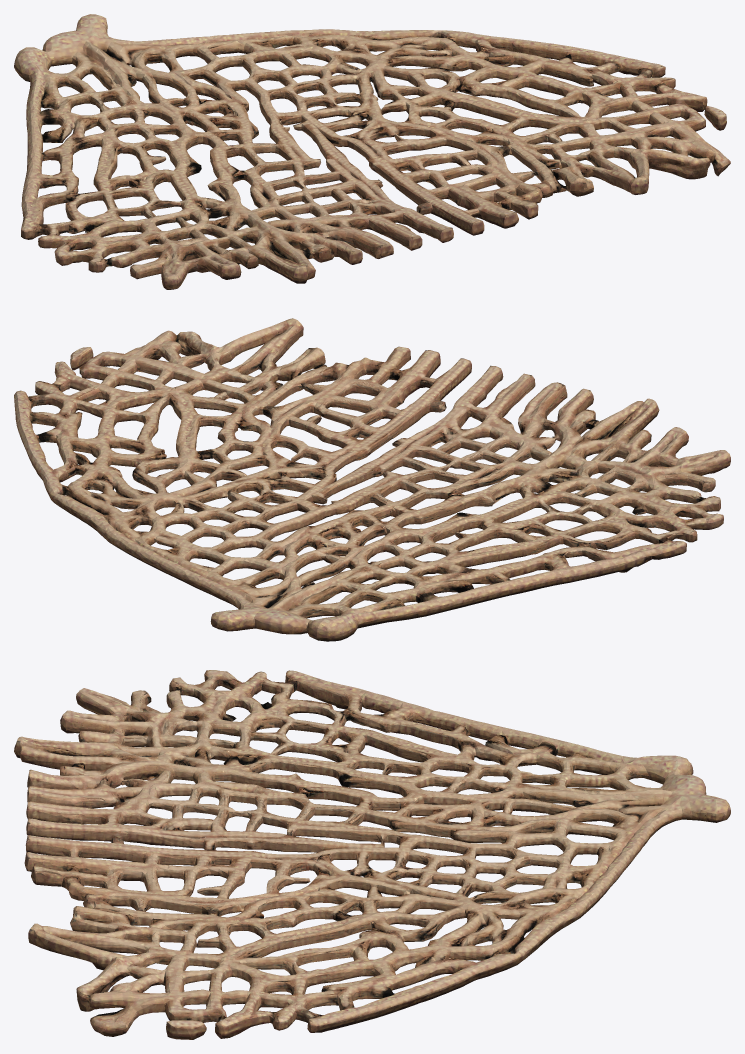
3 renders of one model, top to bottom at view 1: azimuth 30°, elevation 25°; view 2: azimuth 150°, elevation 25°; view 3: azimuth 270°, elevation 25°, orthographic. The views are drawn at different scales.
Parts seen in each view (by area): view 1: world; view 2: world; view 3: world.
Part boxes in pixels (box(x1,y1,x2,y2)): world: box(14, 14, 730, 289); world: box(14, 318, 730, 641); world: box(14, 670, 730, 1039).
Size of the model in its own units: 1 by 0.0662 by 0.8581.
1 material, 1 textured.
